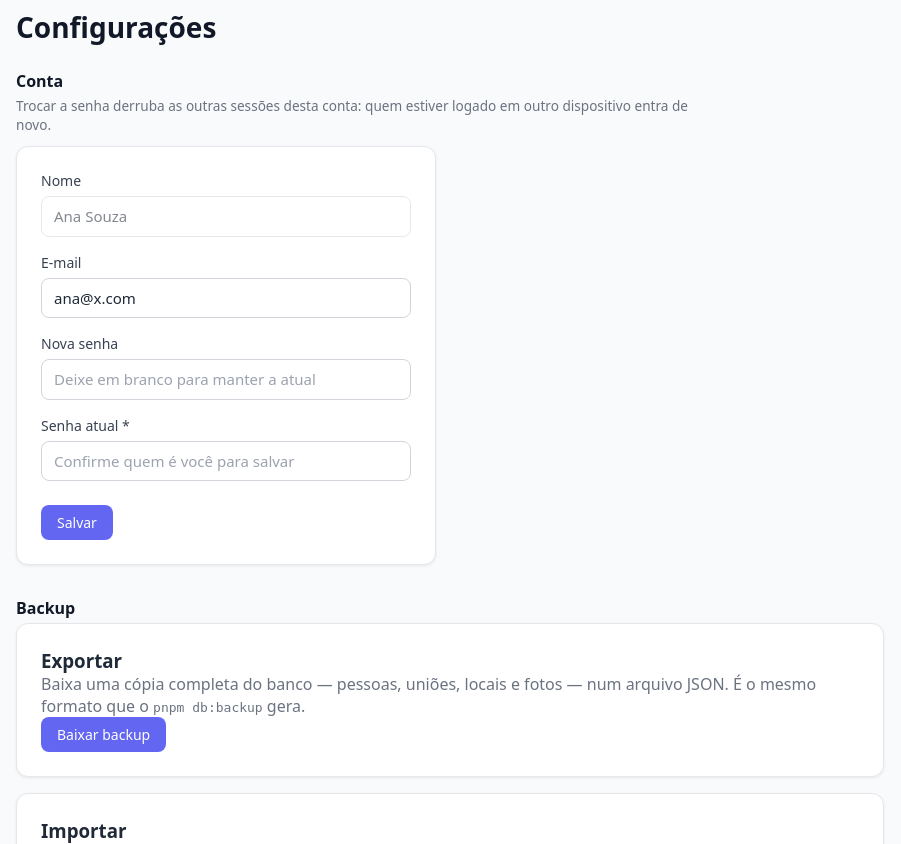
Scenario: Configurações — conta › troca o e-mail e mostra mensagem de sucesso
Replace the text in the field labelled "E-mail" with "nova@x.com" at (226, 298), box [41,278,411,318]
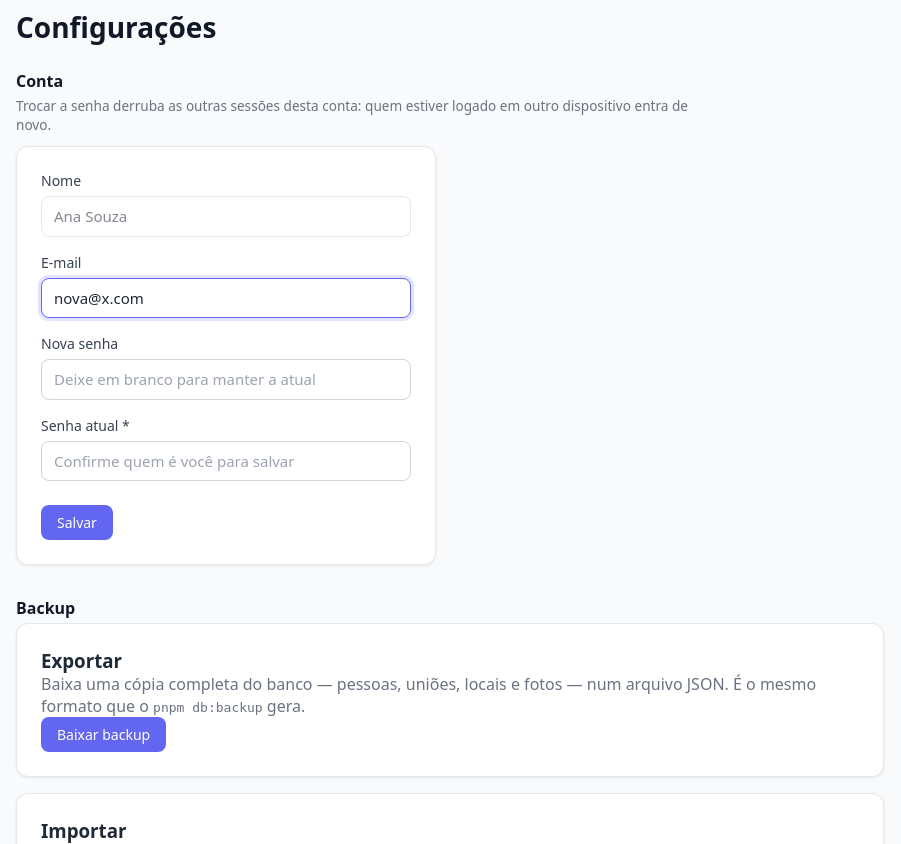
Type "senha1234" into the password field labelled "Senha atual *" at (226, 461), box [41,440,411,481]
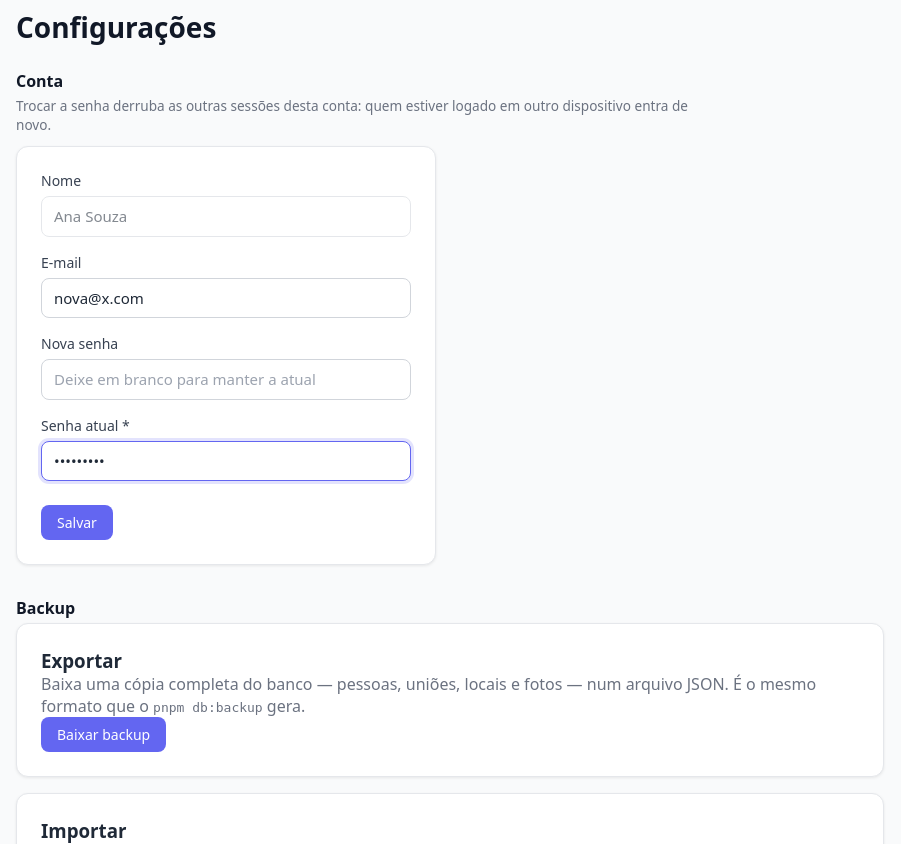
Click the button "Salvar" at (77, 522), box [41,505,113,540]
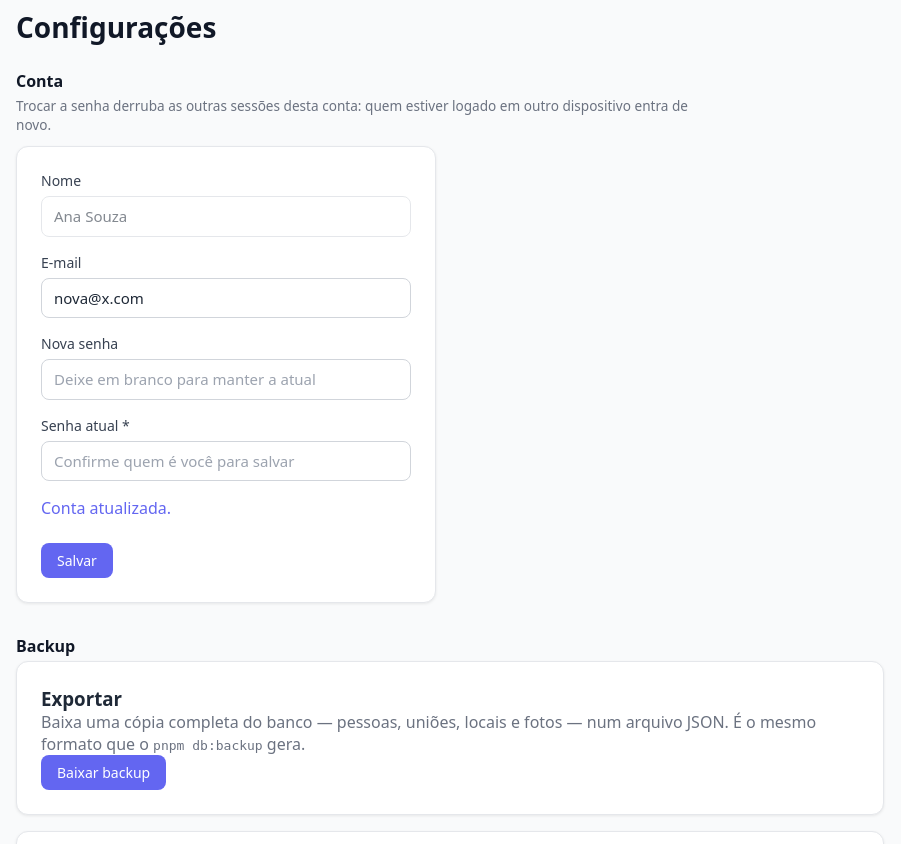
Now the text "Conta atualizada." is shown, box [41,497,171,519]
